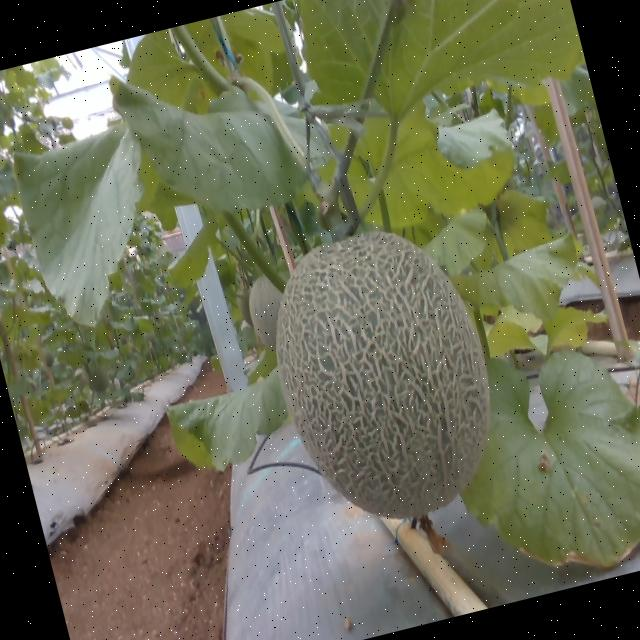melon: (277, 231, 490, 518)
